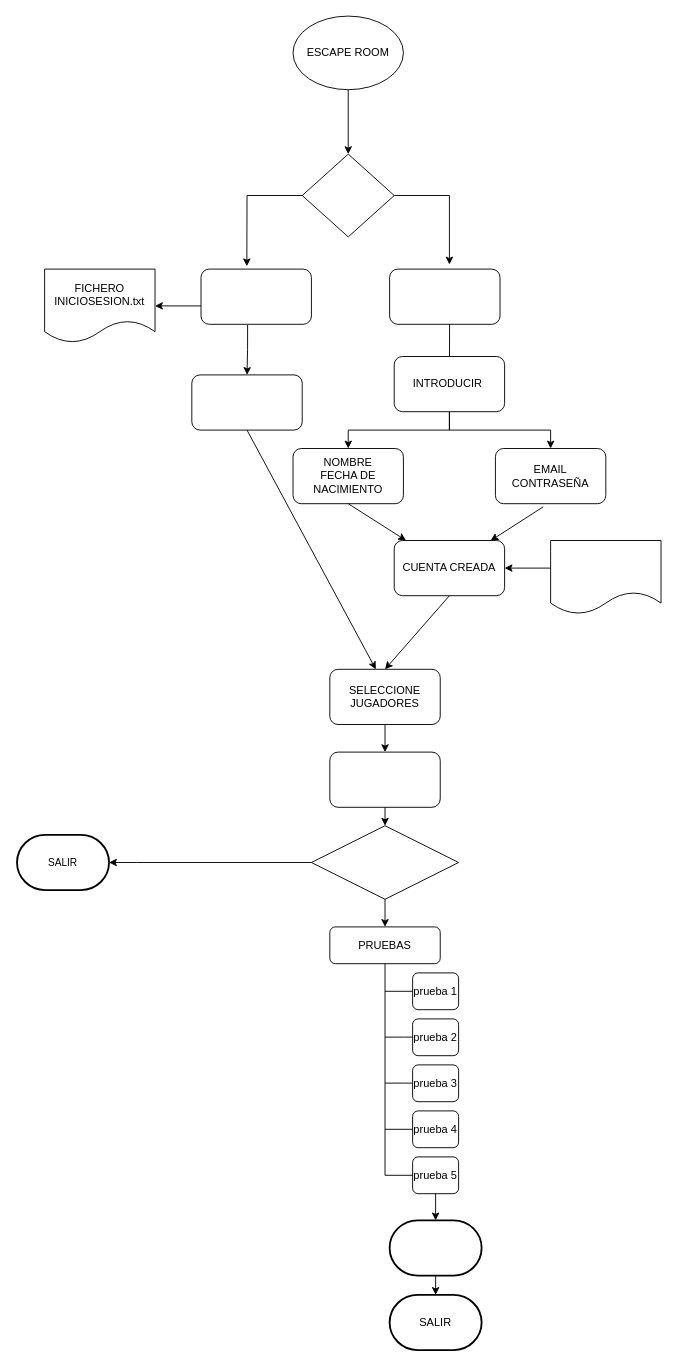
Image size: 677x1367. Some labels were removed from this diagram. Here are the shapes that lost their labels. From the top down, the box of each, then its label:
(301, 153, 394, 237): ¿QUÉ DESEA HACER
(200, 268, 311, 324): INICIAR SESIÓN
(389, 268, 500, 324): REGISTRARSE
(191, 374, 302, 430): INTRODUCIMOS EMAIL Y CONTRASEÑA
(550, 540, 661, 614): FICHERO NUEVACUENTA.txt
(329, 751, 440, 807): INTRODUCCION AL COTEXTO DEL ESCAPE ROOM
(310, 825, 459, 899): QUÉ HACER
(388, 1219, 482, 1276): FINAL
